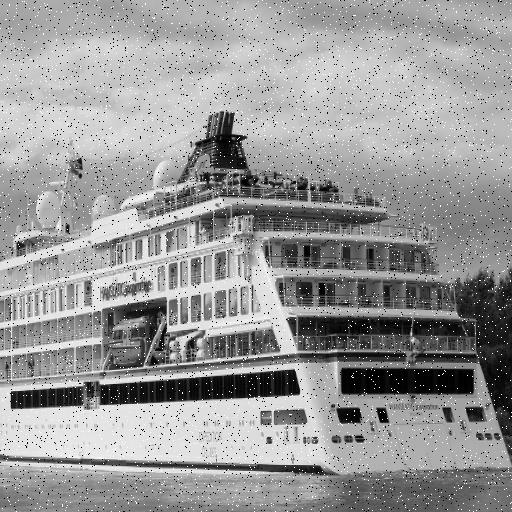cruises: (1, 107, 512, 486)
